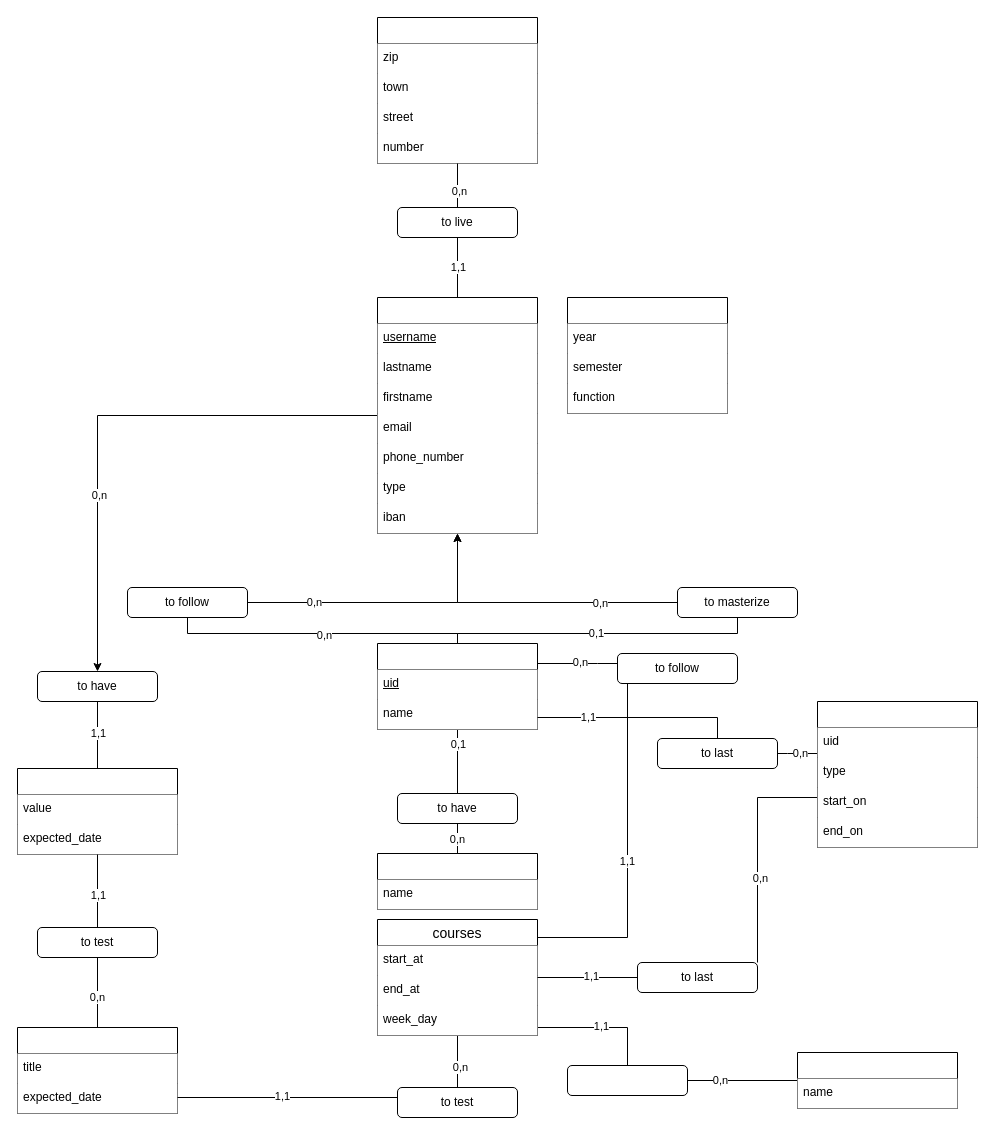
This 995x1135 diagram has some shape labels left out. The shapes that lost their labels are listed below. From the top down, each one's box as (x1, y1, x2, y2) in pixels, then its label:
(376, 16, 538, 164): addresses
(566, 296, 728, 414): promotions_asserts
(376, 296, 538, 534): people
(376, 642, 538, 730): classes
(816, 700, 978, 848): moment
(16, 768, 178, 854): grades
(376, 852, 538, 910): rooms
(16, 1026, 178, 1114): examinations
(566, 1064, 688, 1096): to thematize
(796, 1052, 958, 1108): subjects
